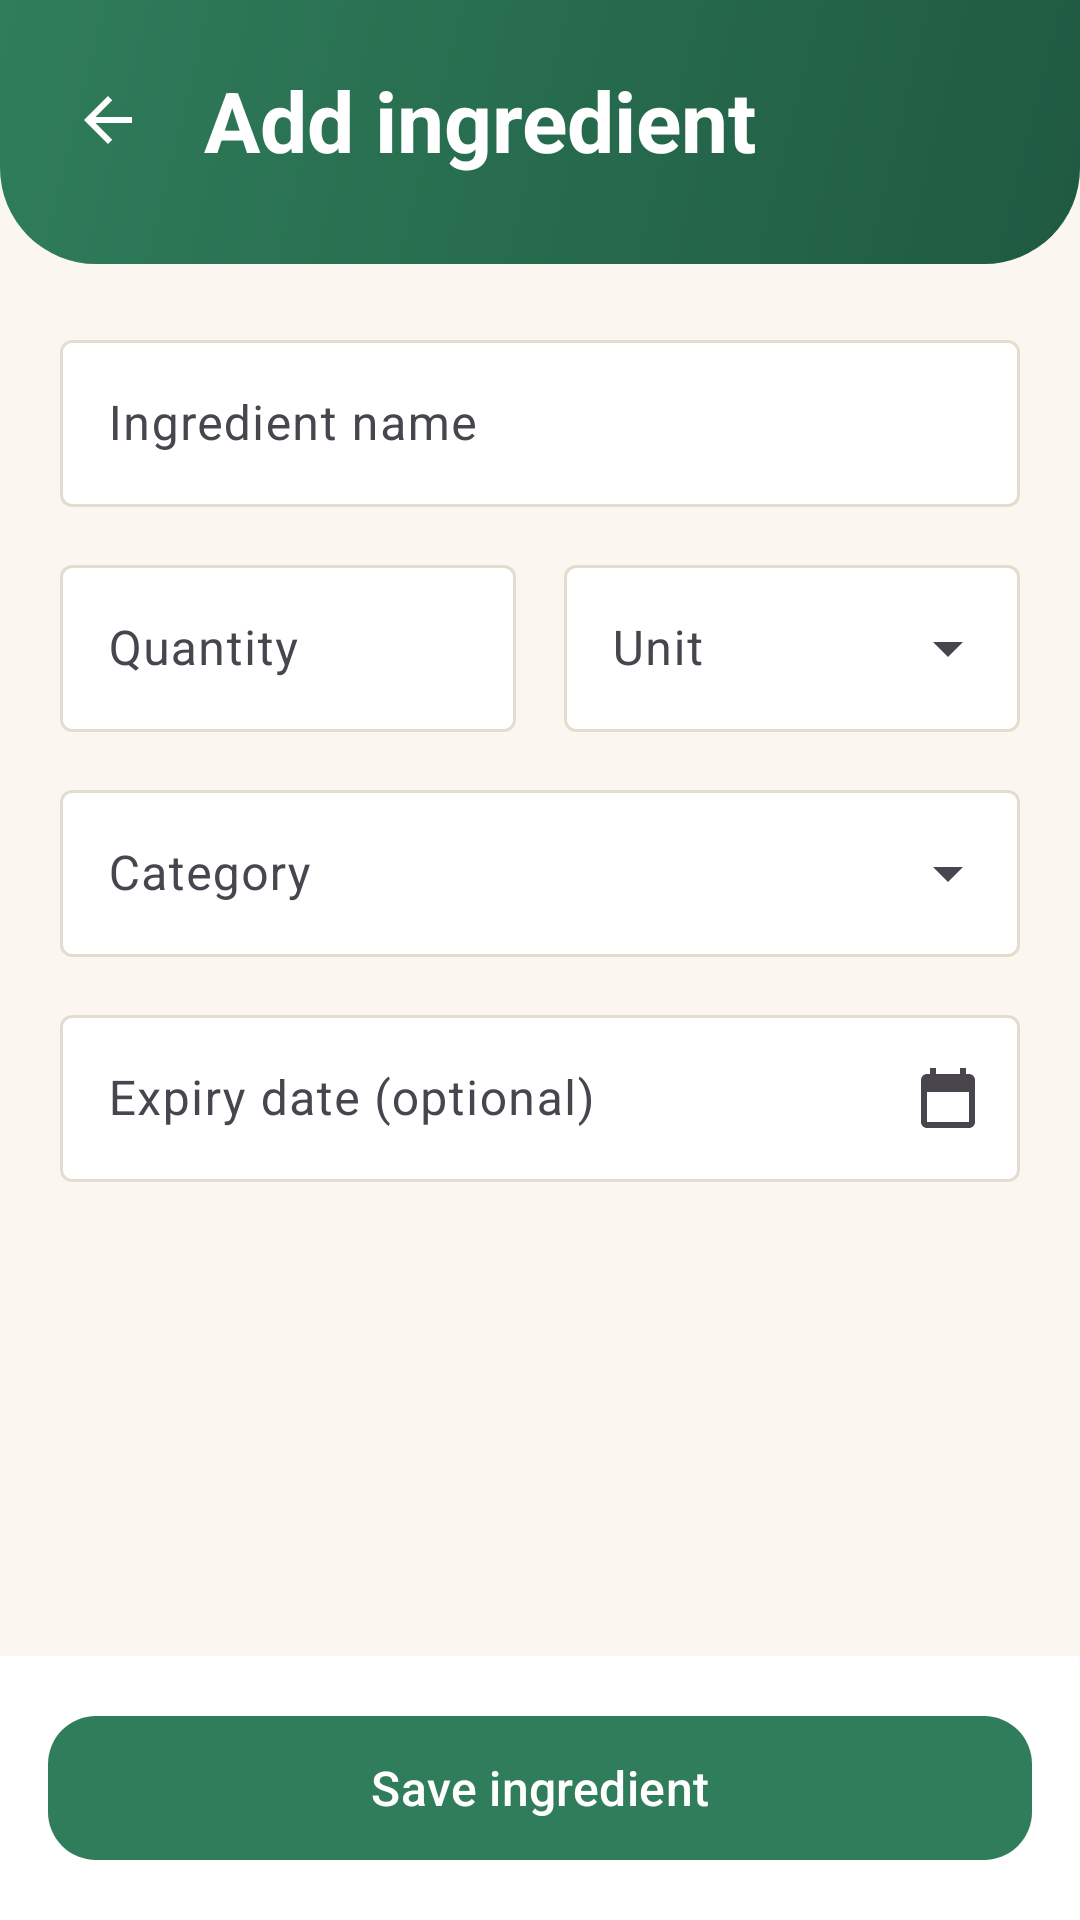

Icon bounding boxes for this 1080 × 1920 phone screenshot, format [left=x1, top=y1, right=x2, bottom=y2]:
Cancel: [left=84, top=96, right=132, bottom=144]
